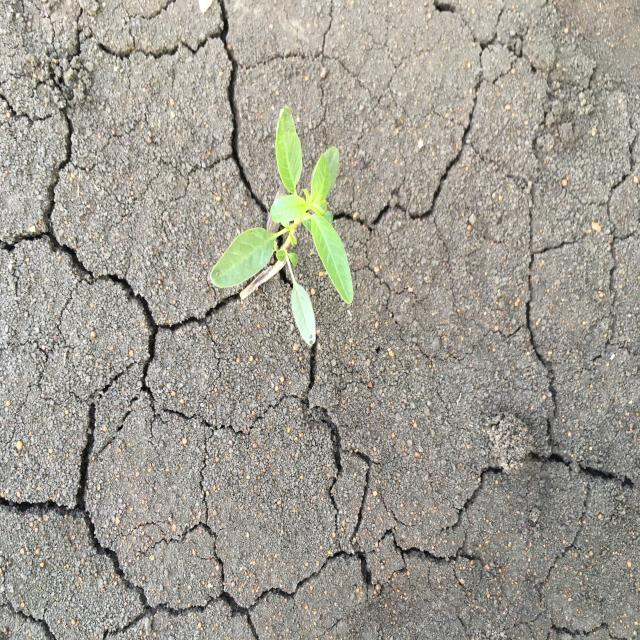Waterhemp: (208, 103, 357, 349)
